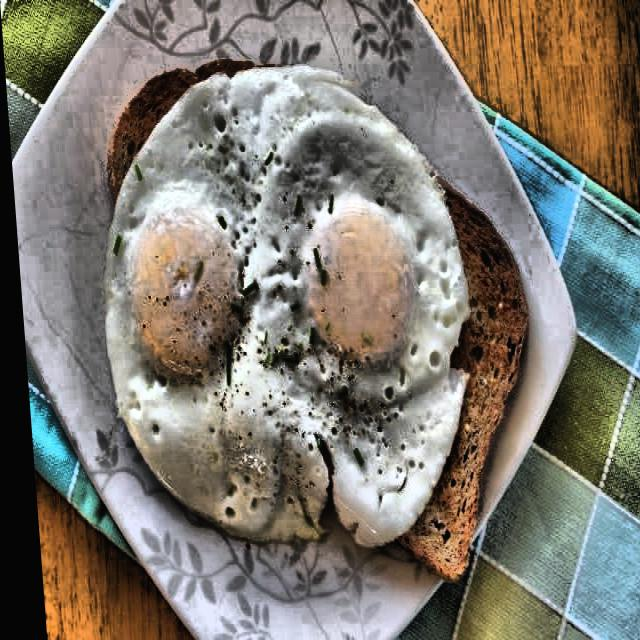Food: (86, 51, 479, 557)
